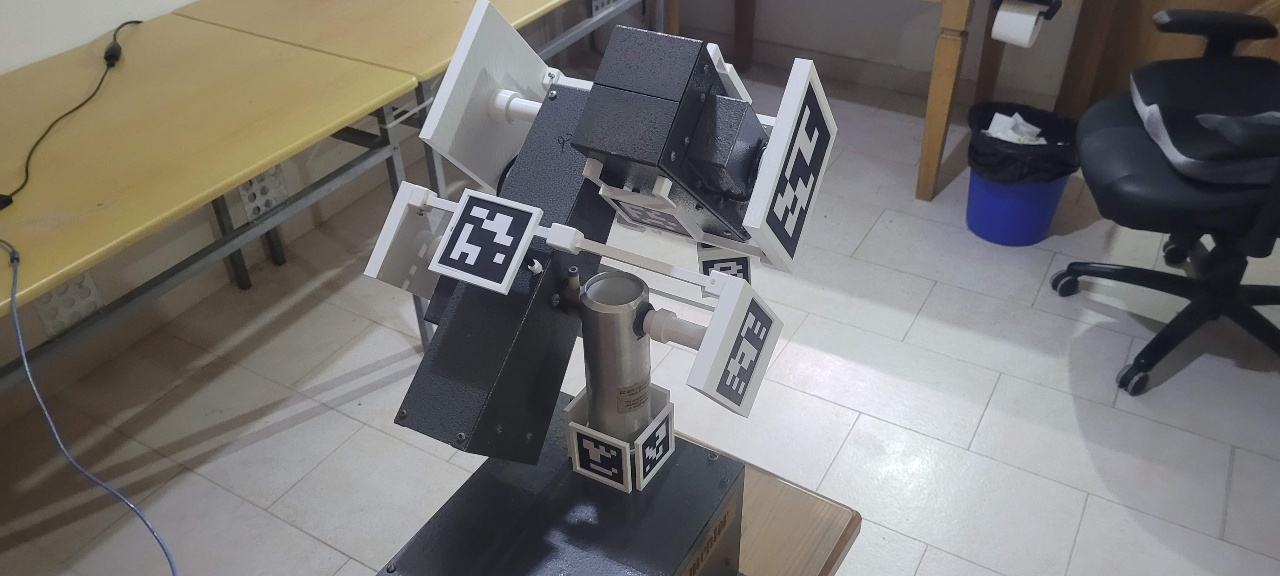Robot: (363, 2, 838, 495)
